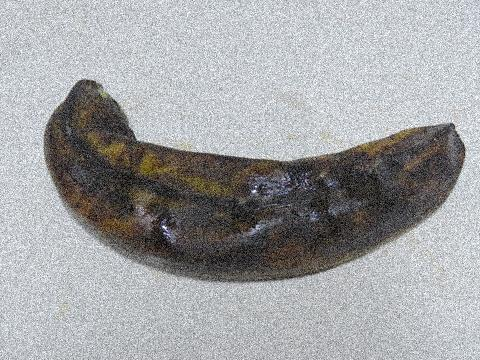rotten: (32, 57, 472, 297)
